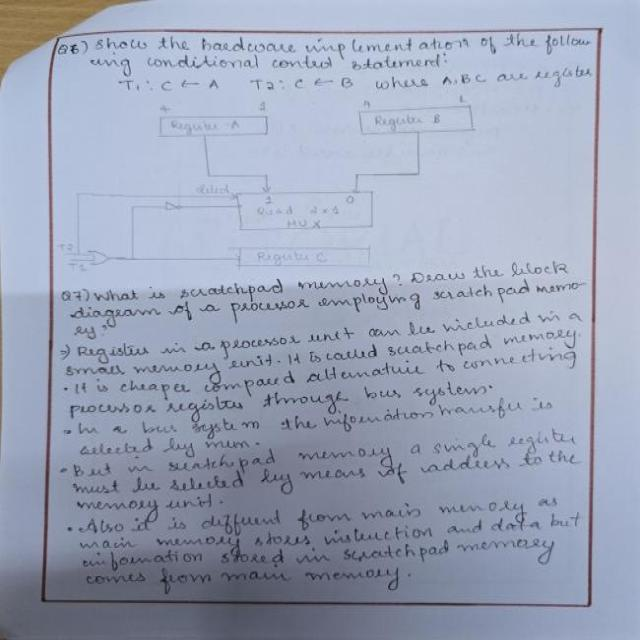Figure Detection - v3 Dataset Version2: (48, 98, 487, 273)
